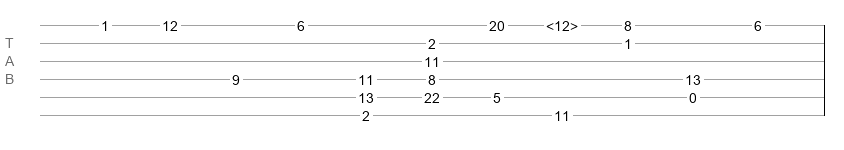0: (689, 90, 697, 100)
1: (101, 18, 109, 28), (624, 36, 632, 46)
11: (358, 72, 374, 82), (424, 54, 440, 64), (554, 108, 570, 118)
12: (162, 18, 178, 28)
13: (358, 90, 374, 100), (685, 72, 701, 82)
2: (362, 108, 370, 118), (428, 36, 436, 46)
20: (489, 18, 505, 28)
22: (424, 90, 440, 100)
5: (493, 90, 501, 100)
6: (297, 18, 305, 28), (754, 18, 762, 28)
8: (428, 72, 436, 82), (624, 18, 632, 28)
9: (232, 72, 240, 82)
harmonic: (546, 18, 578, 28)
